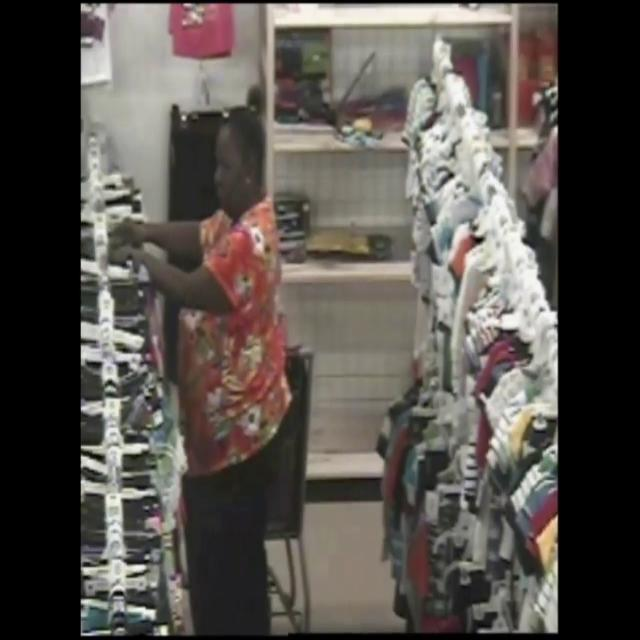normal: (108, 65, 335, 640)
